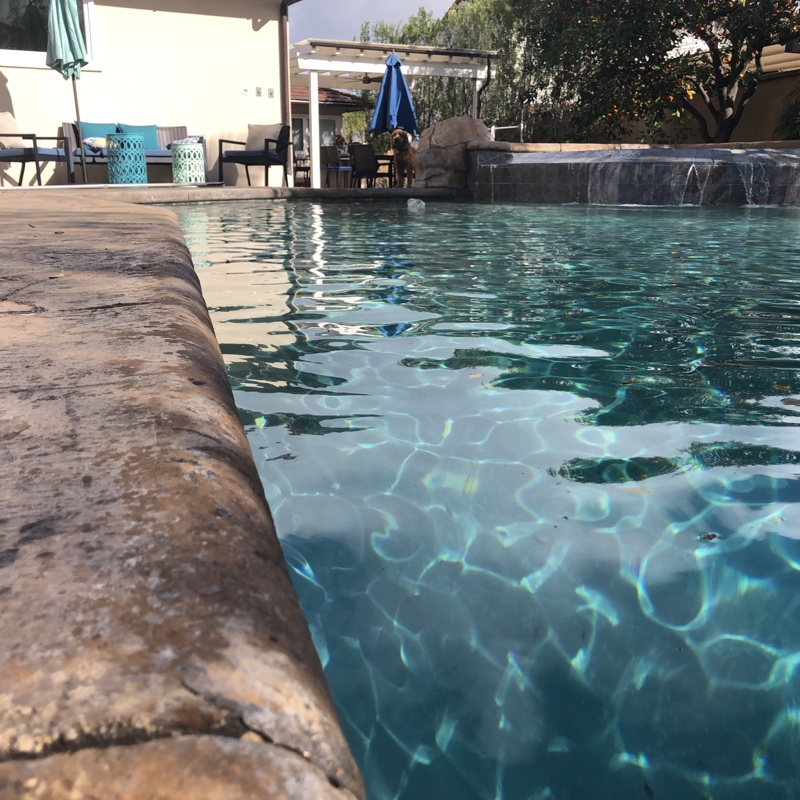Plastic Bottle: (404, 196, 425, 214)
